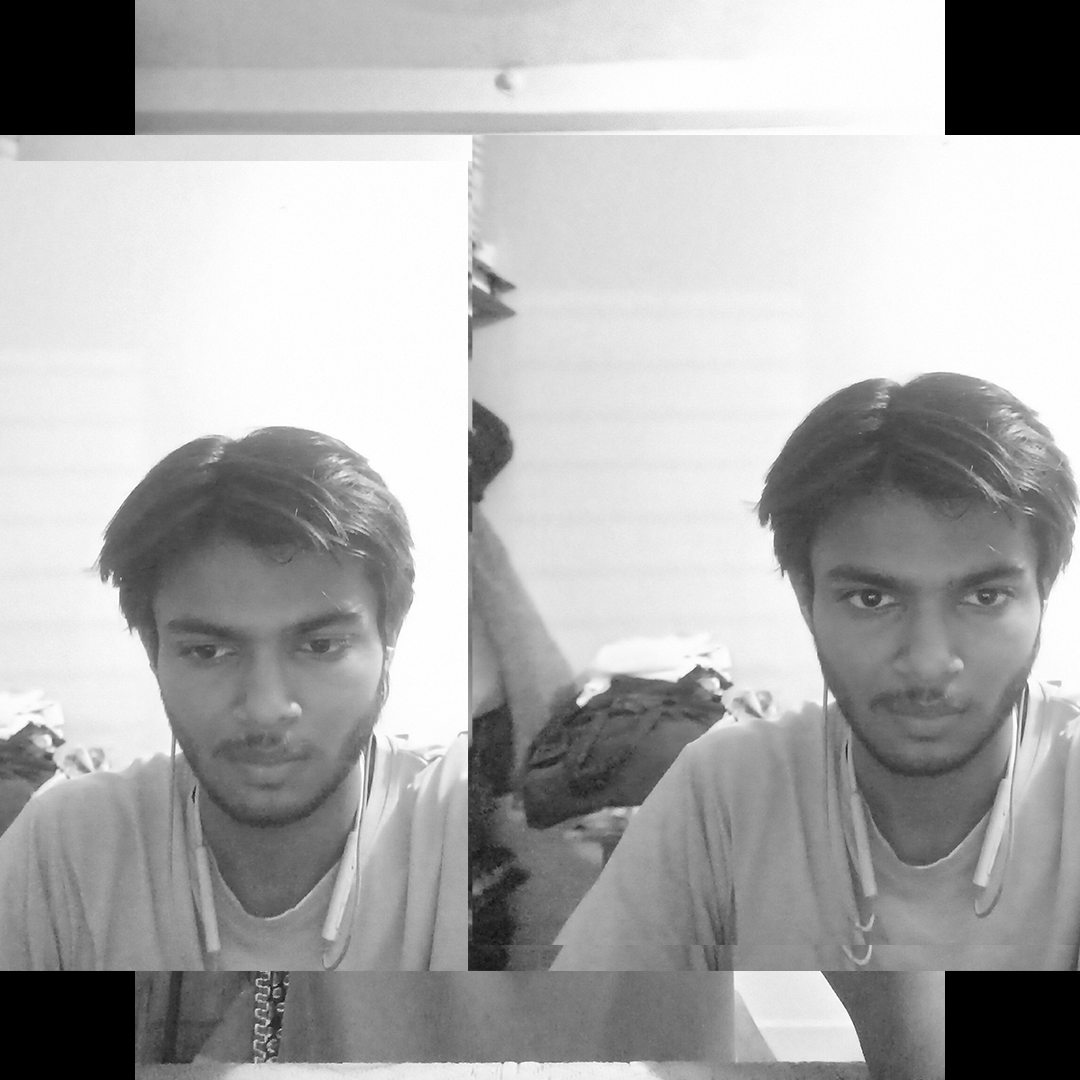Focused: (633, 285, 1078, 967), (50, 348, 471, 947)
